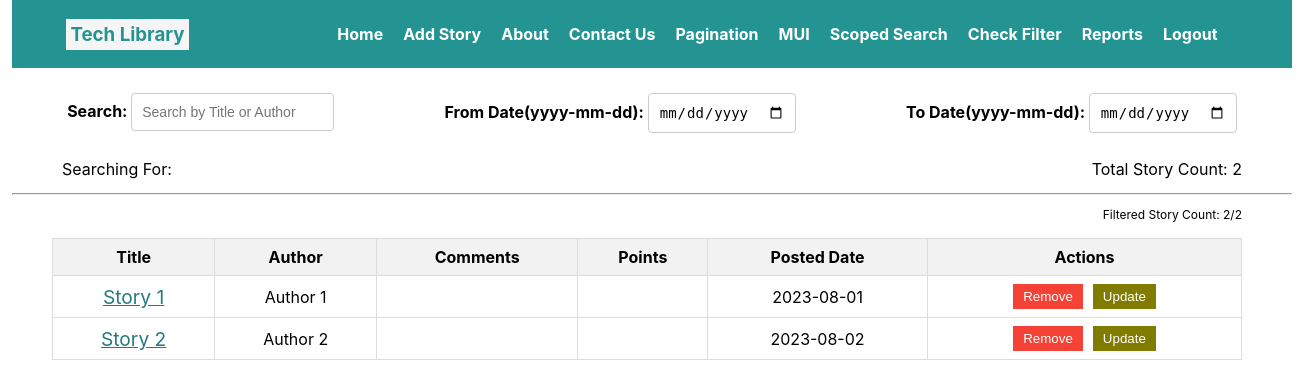
it: StoriesList › filters stories by date range
Check: the link "Story 1" is shown, box [103, 285, 164, 309]
Check: the link "Story 2" is shown, box [101, 327, 166, 351]
Type "2023-08-02" into the date field with placeholder "Filter Records From Date" at (722, 113), box [648, 93, 796, 133]
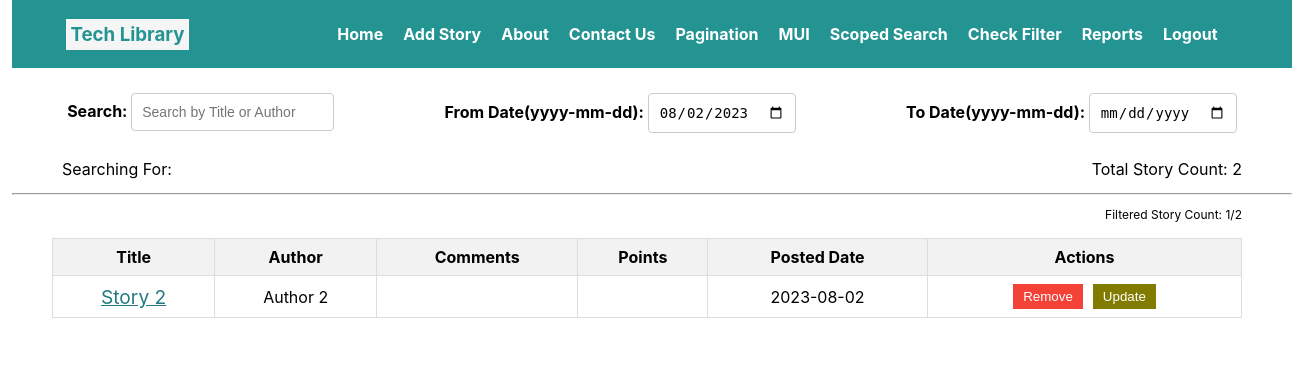
Check: the link "Story 2" is shown, box [101, 285, 166, 309]
Check: the link "Story 1" is gone
